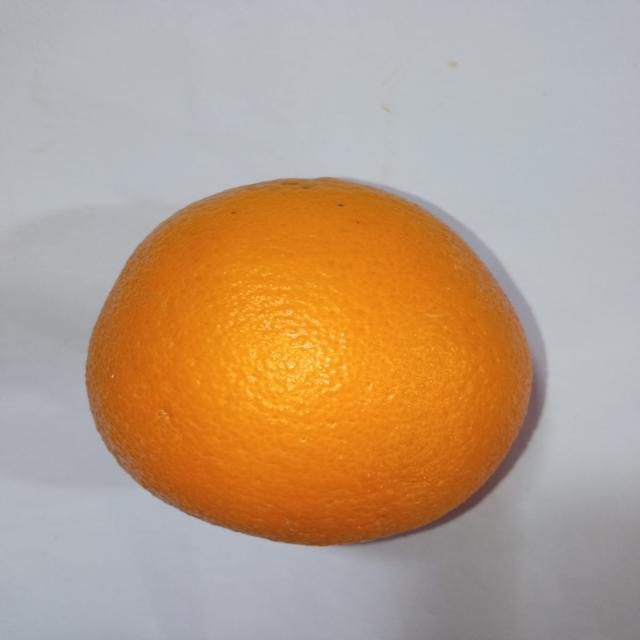fresh_orange: (86, 179, 531, 547)
